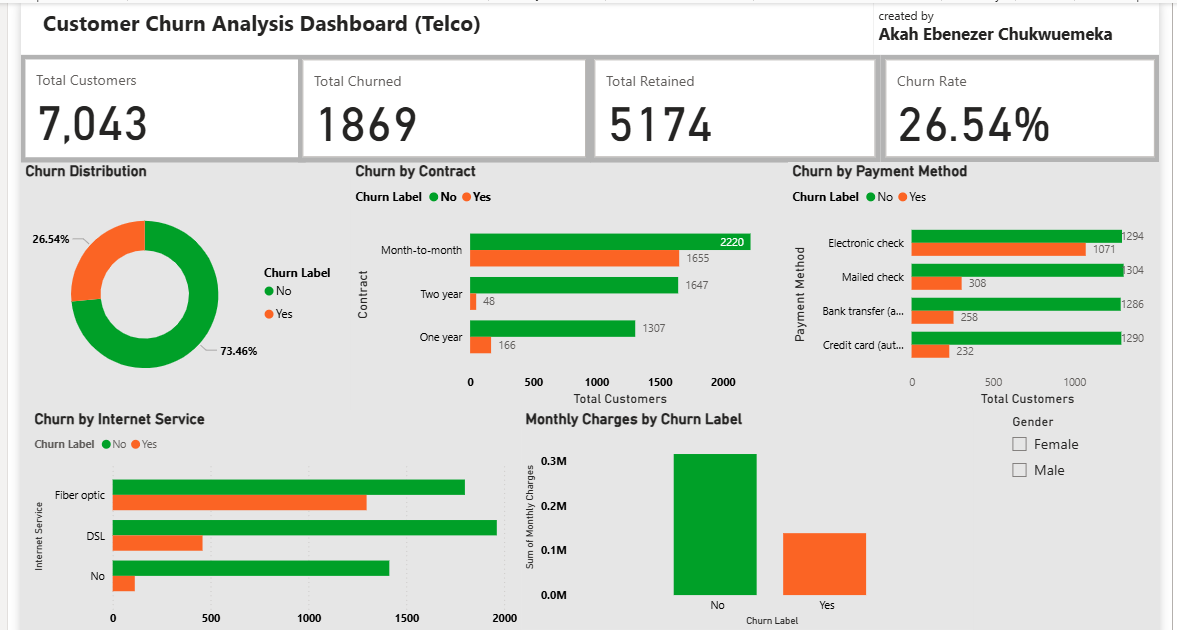

The page's visual inventory and layout, read from the dashboard file:
{"tool":"powerbi","page":{"name":"Page 1","canvas":[1280,720],"ordinal":0},"visuals":[{"type":"cardVisual","fields":{"Data":["Telco_Customer_Churn_Cleaned.Total Customers"]},"box":[0,58.1,320.1,150.4],"z":0},{"type":"cardVisual","fields":{"Data":["Telco_Customer_Churn_Cleaned.Total Churned"]},"box":[312.2,58.1,329.2,156.1],"z":1000},{"type":"cardVisual","fields":{"Data":["Telco_Customer_Churn_Cleaned.Total Retained"]},"box":[640.3,58.1,327,156.1],"z":2000},{"type":"cardVisual","fields":{"Data":["Telco_Customer_Churn_Cleaned.Churn Rate"]},"box":[967.2,58.1,313.3,156.1],"z":3000},{"type":"donutChart","title":"Churn Distribution ","fields":{"Category":["Telco_Customer_Churn_Cleaned.Churn Label"],"Y":["Telco_Customer_Churn_Cleaned.Total Customers"]},"box":[0,208.5,371.4,262],"z":3001},{"type":"clusteredBarChart","title":"Churn by Contract","fields":{"Category":["Telco_Customer_Churn_Cleaned.Contract"],"Y":["Telco_Customer_Churn_Cleaned.Total Customers"]},"box":[371.4,214.2,491,256.3],"z":3002},{"type":"clusteredColumnChart","title":"Monthly Charges by Churn Churn Label","fields":{"Category":["Telco_Customer_Churn_Cleaned.Churn Label"],"Y":["Sum(Telco_Customer_Churn_Cleaned.Monthly Charges)"]},"box":[511.5,470.5,525.2,234.7],"z":3003},{"type":"clusteredBarChart","title":"Churn by Payment Method","fields":{"Category":["Telco_Customer_Churn_Cleaned.Payment Method"],"Y":["Telco_Customer_Churn_Cleaned.Total Customers"],"Series":["Telco_Customer_Churn_Cleaned.Churn Label"]},"box":[862.4,214.2,418.1,256.3],"z":3004},{"type":"clusteredBarChart","title":"Churn by Internet Service ","fields":{"Category":["Telco_Customer_Churn_Cleaned.Internet Service"],"Y":["Telco_Customer_Churn_Cleaned.Total Customers"],"Series":["Telco_Customer_Churn_Cleaned.Churn Label"]},"box":[10.3,470.5,501.3,249.5],"z":3006},{"type":"slicer","fields":{"Values":["Telco_Customer_Churn_Cleaned.Gender"]},"box":[1036.7,496.7,243.8,223.3],"z":3007},{"type":"textbox","box":[0,0,959.2,58.1],"z":3008},{"type":"textbox","box":[959.2,0,321.3,58.1],"z":3009}]}

Visuals, with their boxes on the page's 1280x720 design canvas (x1, y1, x2, y2). These are canvas units, not pixel positions in the 1177x630 screenshot, which may show the page scaled, cropped or inside an application window:
cardVisual - Telco_Customer_Churn_Cleaned.Total Customers: select_region(0, 58, 320, 208)
cardVisual - Telco_Customer_Churn_Cleaned.Total Churned: select_region(312, 58, 641, 214)
cardVisual - Telco_Customer_Churn_Cleaned.Total Retained: select_region(640, 58, 967, 214)
cardVisual - Telco_Customer_Churn_Cleaned.Churn Rate: select_region(967, 58, 1280, 214)
"Churn Distribution " donutChart: select_region(0, 208, 371, 470)
"Churn by Contract" clusteredBarChart: select_region(371, 214, 862, 470)
"Monthly Charges by Churn Churn Label" clusteredColumnChart: select_region(512, 470, 1037, 705)
"Churn by Payment Method" clusteredBarChart: select_region(862, 214, 1280, 470)
"Churn by Internet Service " clusteredBarChart: select_region(10, 470, 512, 720)
slicer - Telco_Customer_Churn_Cleaned.Gender: select_region(1037, 497, 1280, 720)
textbox: select_region(0, 0, 959, 58)
textbox: select_region(959, 0, 1280, 58)
